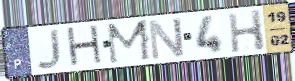4: (193, 13, 227, 55)
H: (64, 23, 105, 70), (226, 8, 267, 55)
J: (34, 27, 63, 71)
M: (105, 18, 153, 66)
N: (147, 15, 186, 62)
